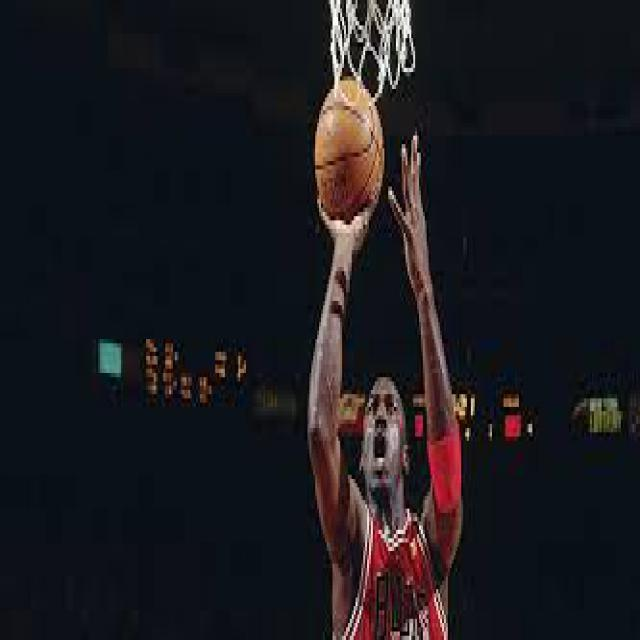basketball: (316, 80, 386, 220)
